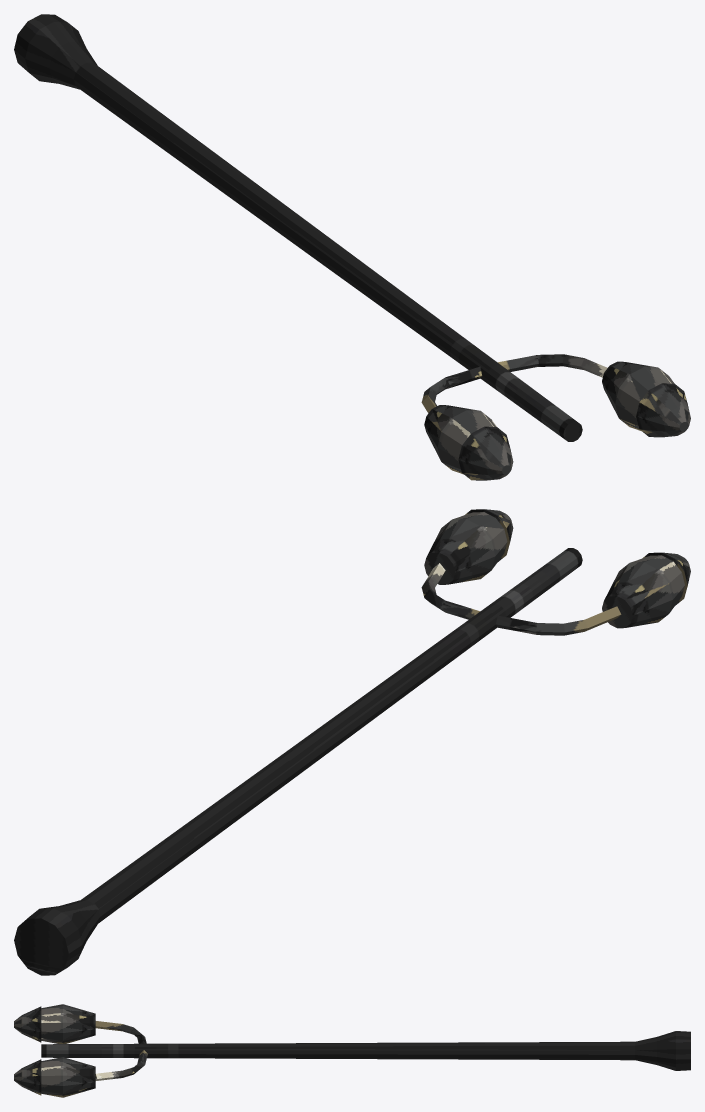
File: pz_street_pole_07.obj
3 renders of one model, top to bottom at view 1: azimuth 30°, elevation 25°; view 2: azimuth 150°, elevation 25°; view 3: azimuth 270°, elevation 25°, orthographic. The views are drawn at different scales.
Visible parts, largest first — view 1: pz_street_pole_07_|_tapered_native_street_pole, pz_street_pole_07_|_curved_native_lantern_glass.001, pz_street_pole_07_|_curved_native_lantern_glass, pz_street_pole_07_|_lantern_cap.001, pz_street_pole_07_|_lantern_cap, pz_street_pole_07_|_EDITABLE_ornamental_lamp_arm.001, pz_street_pole_07_|_EDITABLE_ornamental_lamp_arm; view 2: pz_street_pole_07_|_tapered_native_street_pole, pz_street_pole_07_|_curved_native_lantern_glass, pz_street_pole_07_|_curved_native_lantern_glass.001, pz_street_pole_07_|_EDITABLE_ornamental_lamp_arm, pz_street_pole_07_|_EDITABLE_ornamental_lamp_arm.001; view 3: pz_street_pole_07_|_tapered_native_street_pole, pz_street_pole_07_|_curved_native_lantern_glass.001, pz_street_pole_07_|_curved_native_lantern_glass, pz_street_pole_07_|_lantern_cap, pz_street_pole_07_|_lantern_cap.001, pz_street_pole_07_|_EDITABLE_ornamental_lamp_arm.001, pz_street_pole_07_|_EDITABLE_ornamental_lamp_arm.
Boxes of the visible parts, <box> form: pz_street_pole_07_|_tapered_native_street_pole: <box>14,14,582,441</box>; pz_street_pole_07_|_curved_native_lantern_glass.001: <box>602,361,674,430</box>; pz_street_pole_07_|_curved_native_lantern_glass: <box>424,405,496,474</box>; pz_street_pole_07_|_lantern_cap.001: <box>636,383,690,437</box>; pz_street_pole_07_|_lantern_cap: <box>458,426,513,480</box>; pz_street_pole_07_|_EDITABLE_ornamental_lamp_arm.001: <box>498,354,607,377</box>; pz_street_pole_07_|_EDITABLE_ornamental_lamp_arm: <box>421,366,481,413</box>; pz_street_pole_07_|_tapered_native_street_pole: <box>14,548,582,975</box>; pz_street_pole_07_|_curved_native_lantern_glass: <box>602,555,684,628</box>; pz_street_pole_07_|_curved_native_lantern_glass.001: <box>424,512,507,584</box>; pz_street_pole_07_|_EDITABLE_ornamental_lamp_arm: <box>496,606,621,635</box>; pz_street_pole_07_|_EDITABLE_ornamental_lamp_arm.001: <box>421,563,479,619</box>; pz_street_pole_07_|_tapered_native_street_pole: <box>41,1031,690,1070</box>; pz_street_pole_07_|_curved_native_lantern_glass.001: <box>41,1057,95,1097</box>; pz_street_pole_07_|_curved_native_lantern_glass: <box>41,1004,95,1043</box>; pz_street_pole_07_|_lantern_cap: <box>14,1006,41,1042</box>; pz_street_pole_07_|_lantern_cap.001: <box>14,1059,41,1095</box>; pz_street_pole_07_|_EDITABLE_ornamental_lamp_arm.001: <box>95,1050,147,1080</box>; pz_street_pole_07_|_EDITABLE_ornamental_lamp_arm: <box>95,1021,146,1043</box>.
Bounding box in the file's own units: 0.61 × 0.15 × 2.49.
2 materials, 2 textured.
